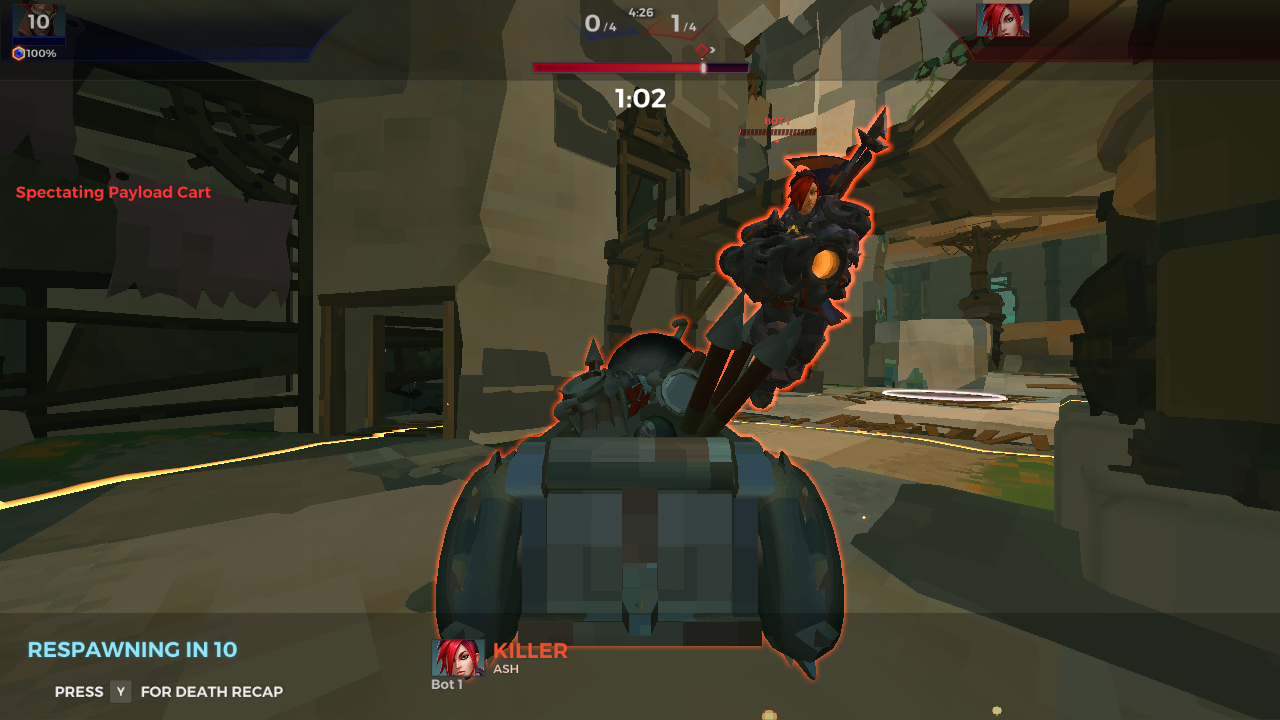model: (713, 151, 913, 401)
